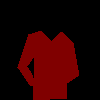abbigliamento_uomo: (17, 30, 79, 100)
